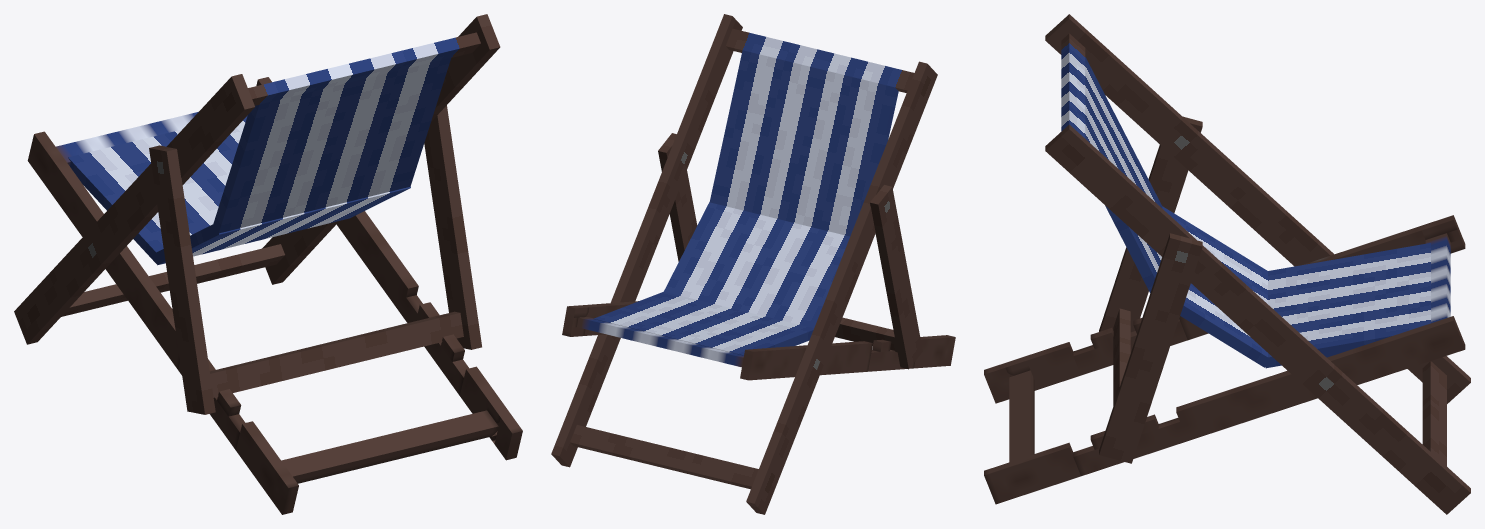
Rendered from Chaise longe.dae.
The picture shows the model from 3 angles, left to right: view 1: azimuth 30°, elevation 25°; view 2: azimuth 150°, elevation 25°; view 3: azimuth 270°, elevation 25°; orthographic projection. The views are drawn at different scales.
Parts seen in each view (by area): view 1: Part_2-local, Part_4-local, Part_1-local, Part_3-local, Part_6-local, Part_5-local; view 2: Part_1-local, Part_4-local, Part_5-local, Part_2-local, Part_3-local, Part_6-local; view 3: Part_1-local, Part_2-local, Part_3-local, Part_6-local, Part_4-local, Part_5-local.
Part boxes in pixels (x1=…): Part_2-local: x1=27, y1=77, x2=522, y2=514; Part_4-local: x1=213, y1=58, x2=451, y2=233; Part_1-local: x1=14, y1=14, x2=500, y2=344; Part_3-local: x1=149, y1=105, x2=481, y2=414; Part_6-local: x1=68, y1=115, x2=247, y2=265; Part_5-local: x1=156, y1=186, x2=410, y2=264; Part_1-local: x1=551, y1=14, x2=937, y2=514; Part_4-local: x1=709, y1=50, x2=898, y2=236; Part_5-local: x1=664, y1=202, x2=849, y2=328; Part_2-local: x1=562, y1=301, x2=955, y2=380; Part_3-local: x1=658, y1=133, x2=922, y2=369; Part_6-local: x1=594, y1=291, x2=813, y2=355; Part_1-local: x1=1045, y1=14, x2=1470, y2=514; Part_2-local: x1=984, y1=215, x2=1465, y2=504; Part_3-local: x1=1099, y1=116, x2=1202, y2=463; Part_6-local: x1=1265, y1=243, x2=1430, y2=368; Part_4-local: x1=1085, y1=57, x2=1162, y2=292; Part_5-local: x1=1162, y1=206, x2=1270, y2=367.
Bounding box in the file's own units: 26 × 37.48 × 42.87.
6 materials, 6 textured.
